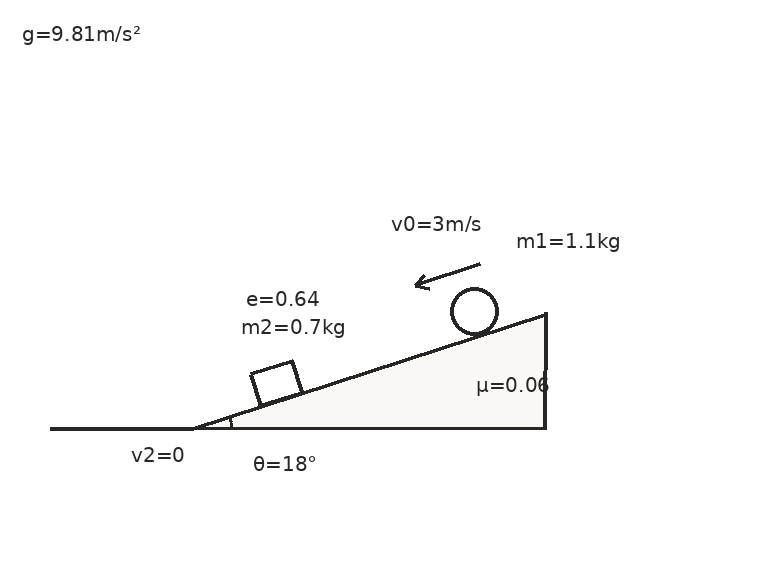ball: (448, 285, 500, 337)
block: (248, 359, 304, 408)
ramp: (189, 311, 547, 430)
